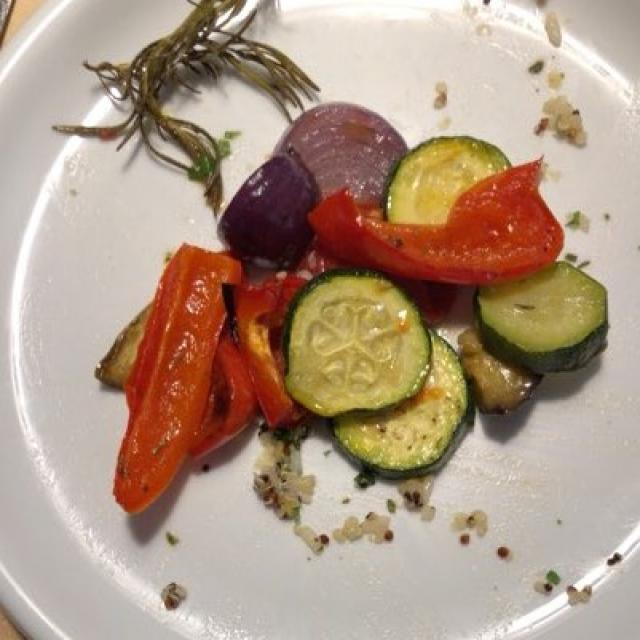mixed-vegetables: (114, 105, 602, 510)
